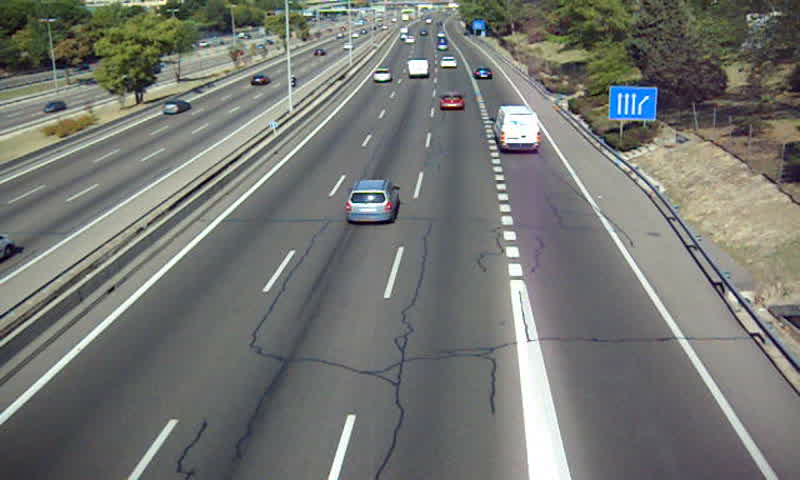car: (344, 180, 400, 224), (439, 90, 463, 110), (472, 66, 490, 82), (372, 68, 391, 83), (439, 56, 456, 69)
van: (494, 106, 541, 150), (406, 59, 428, 77)
